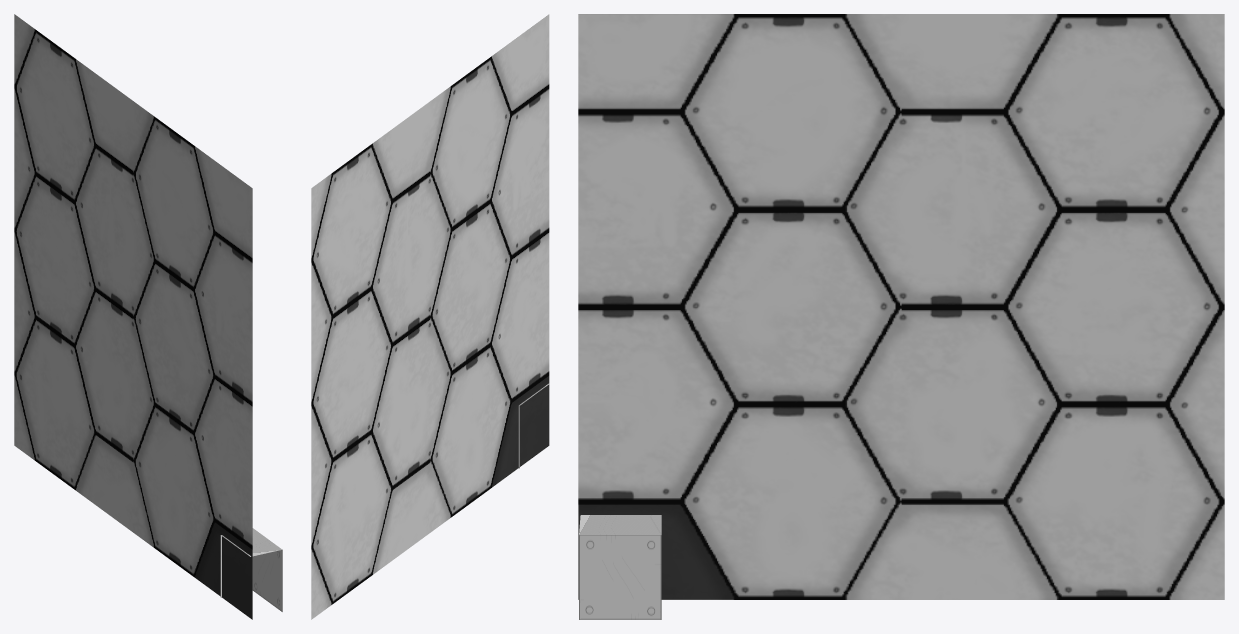
File: Wall_CornerBottomLeft.fbx
3 renders of one model, left to right at view 1: azimuth 30°, elevation 25°; view 2: azimuth 150°, elevation 25°; view 3: azimuth 270°, elevation 25°, orthographic. The views are drawn at different scales.
Visible parts, largest first — view 1: pPlane111; view 2: pPlane111; view 3: pPlane111.
Boxes of the visible parts, x1=… form: pPlane111: x1=14, y1=14, x2=282, y2=619; pPlane111: x1=311, y1=14, x2=549, y2=619; pPlane111: x1=578, y1=14, x2=1224, y2=619.
Bounding box in the file's own units: 0.1534 × 2 × 2.
